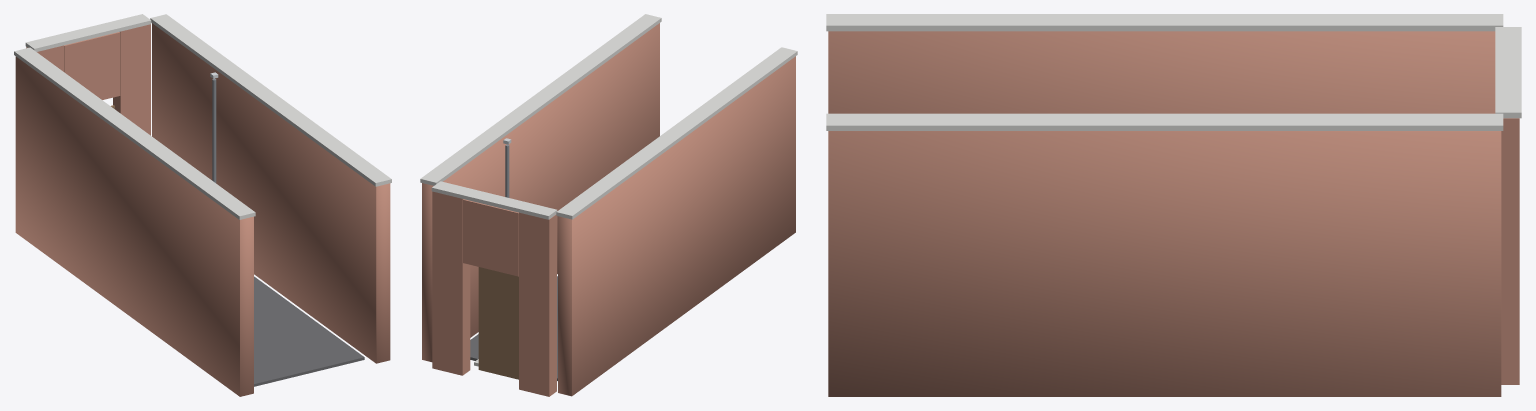
The model's file is Alley.fbx.
3 views of the same model, side by side, from view 1: azimuth 30°, elevation 25°; view 2: azimuth 150°, elevation 25°; view 3: azimuth 270°, elevation 25° (orthographic). The views are drawn at different scales.
Visible parts, largest first — view 1: LOD0; view 2: LOD0; view 3: LOD0.
Part boxes in pixels (<box>): LOD0: <box>14,14,391,396</box>; LOD0: <box>420,14,797,396</box>; LOD0: <box>826,14,1521,396</box>.
Size of what is drawn, in the model's own units: 302 by 344 by 795.
